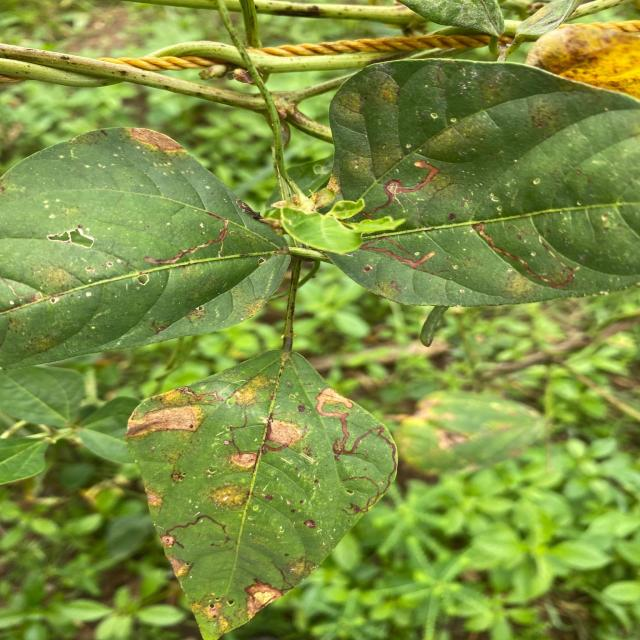leaf-moderate: (126, 338, 397, 640), (525, 22, 640, 99), (519, 0, 556, 30)
sitaw-aphid-low: (320, 59, 640, 344), (0, 128, 290, 368)
sitaw-aphid-moderate: (0, 43, 269, 114), (273, 93, 332, 142)
